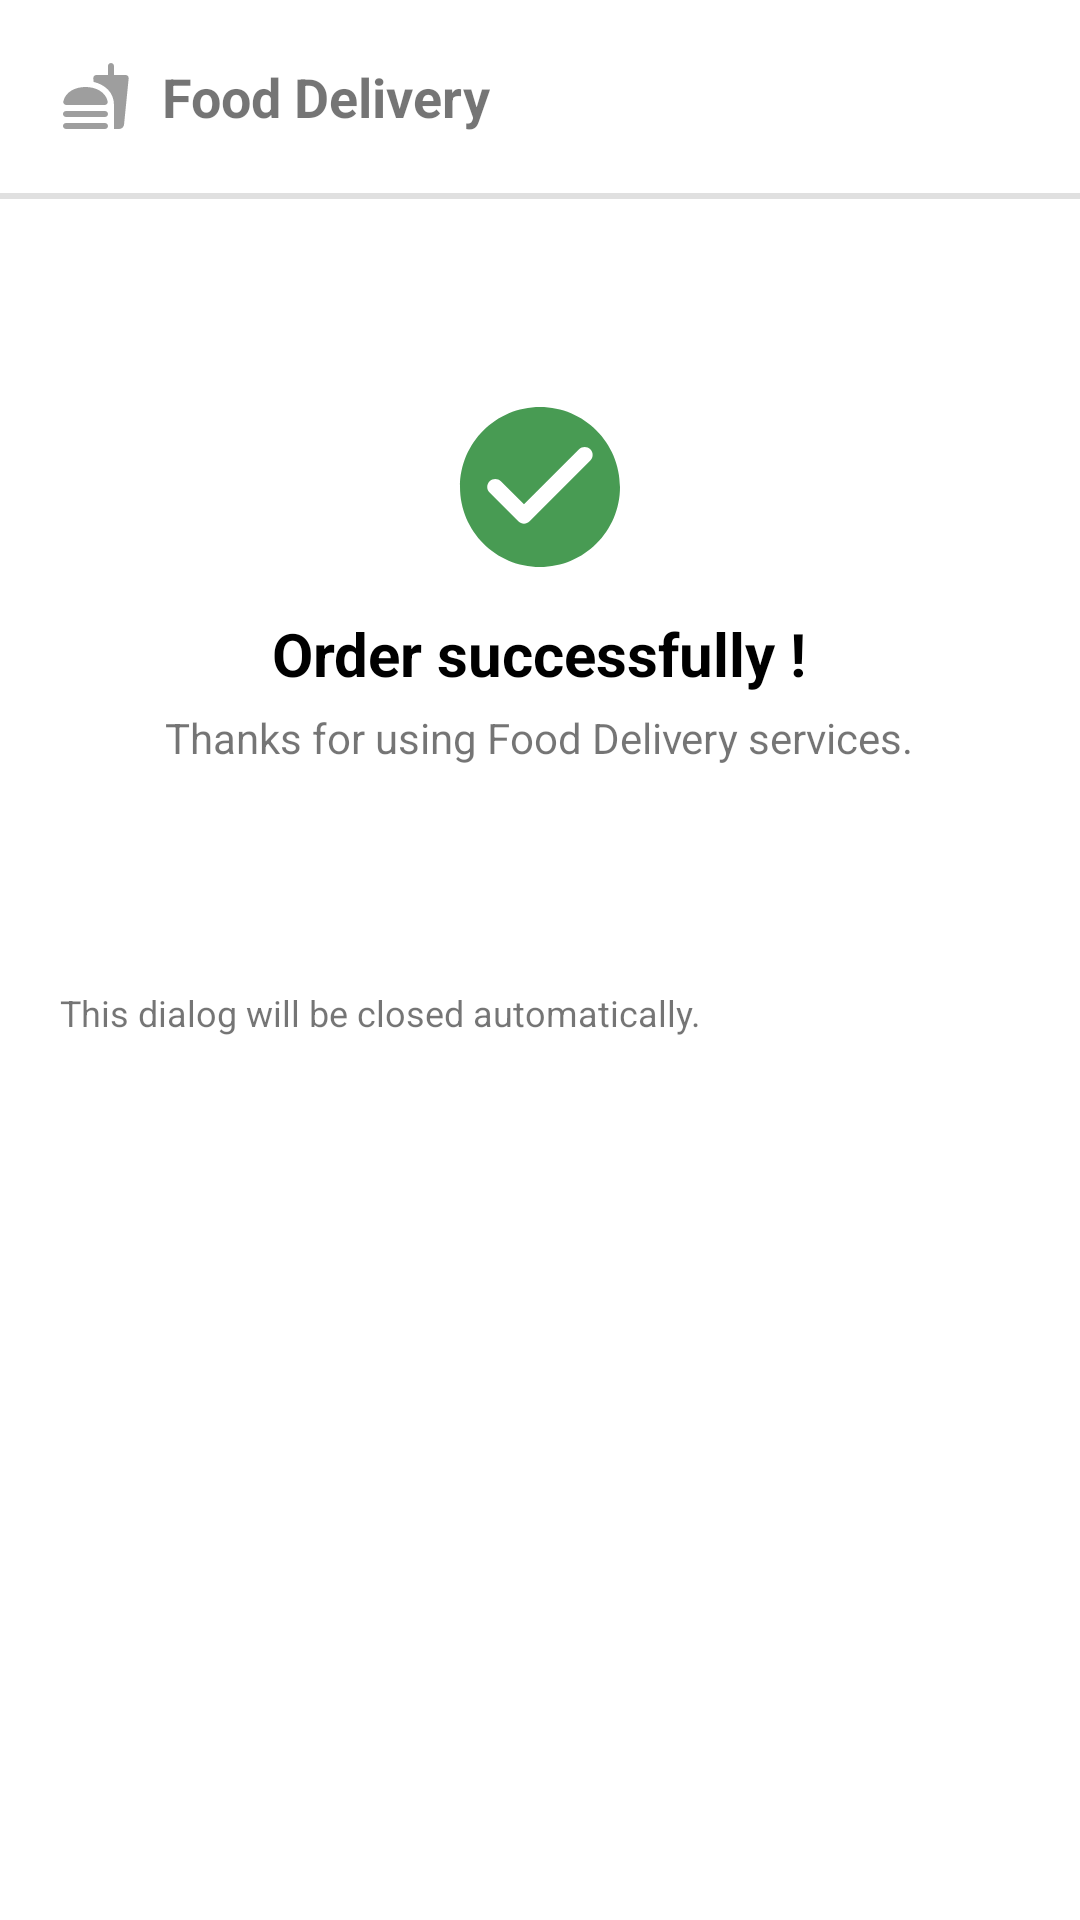

Icons on this 1080*1920 Android screen, each with the point to tap as point (x, y):
check circle: point (540, 487)
fastfood: point (96, 96)
